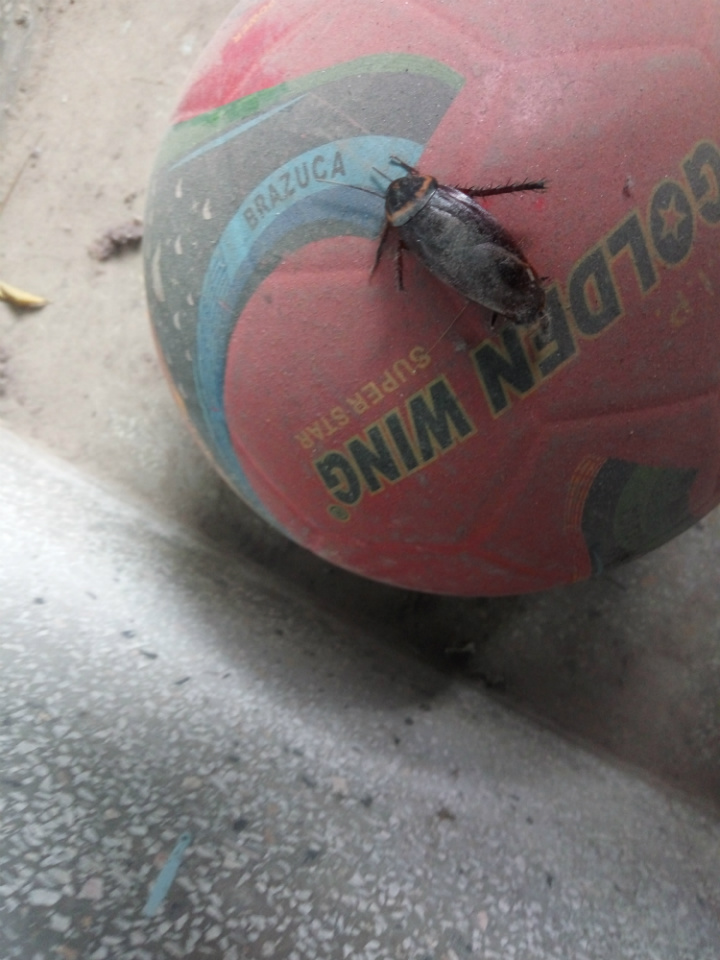cockroach: (296, 147, 579, 346)
